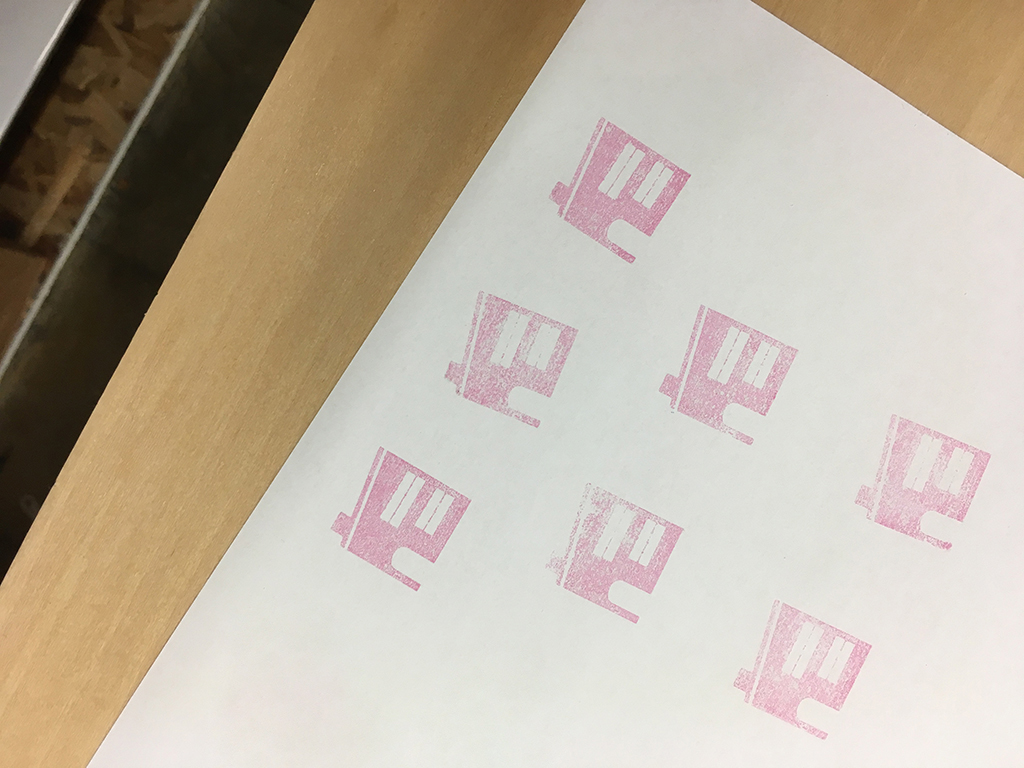house: (320, 432, 475, 601), (543, 108, 696, 271), (843, 400, 996, 563), (430, 280, 586, 439), (726, 589, 880, 749), (542, 471, 689, 632), (656, 296, 802, 458)
